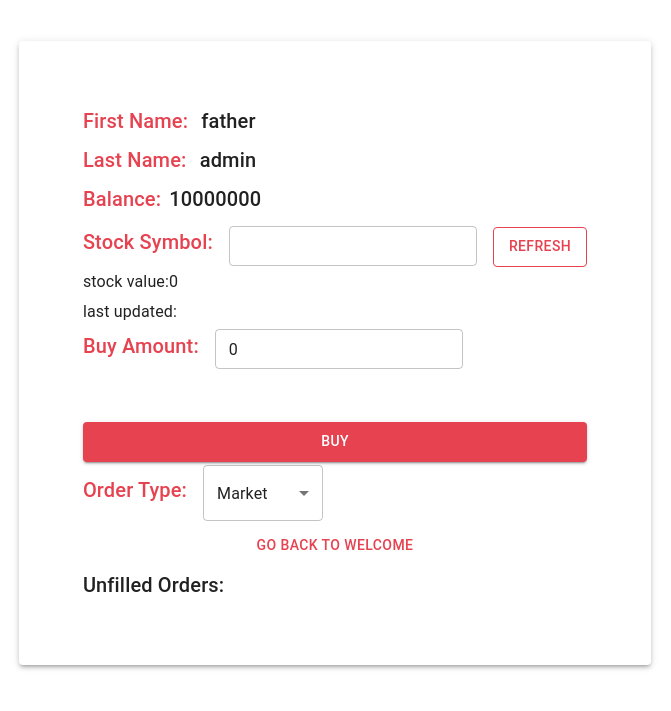
Test: Test Buy component › shows purchase failure when return code not 200
The image size is (671, 711).
Type "AAPL" into the field labelled "Stock Symbol:". click: (353, 246)
box: [229,226,477,266]
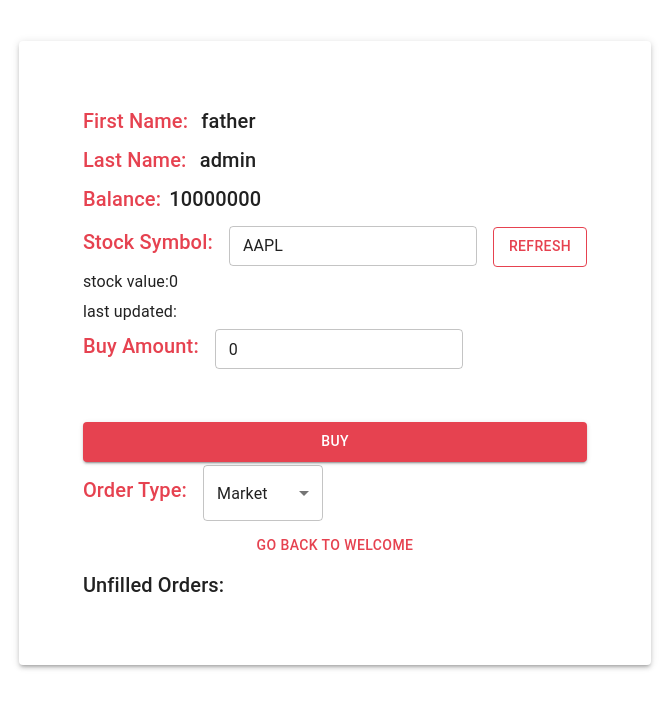
Replace the text in the number field labelled "Buy Amount:" with "10". click: (339, 349)
box: [215,329,463,369]
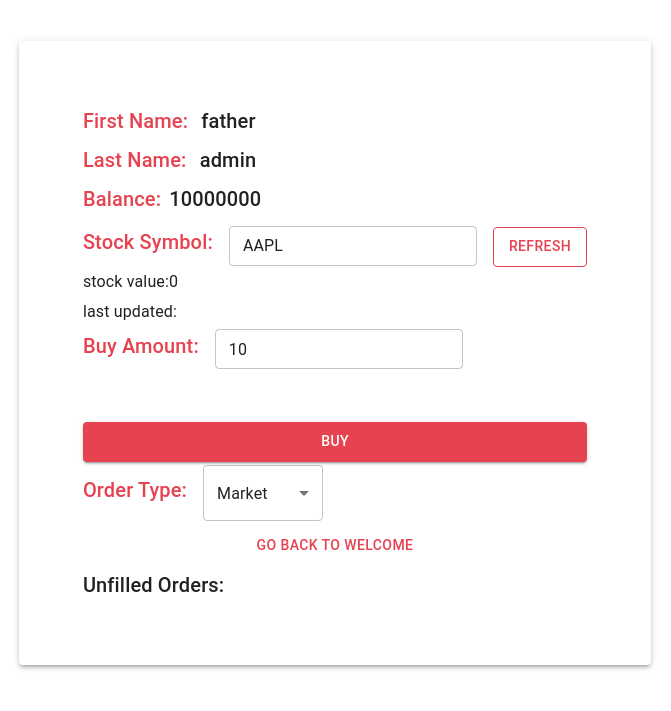
Click the button "Buy". click: (335, 442)
box: [83,422,587,462]
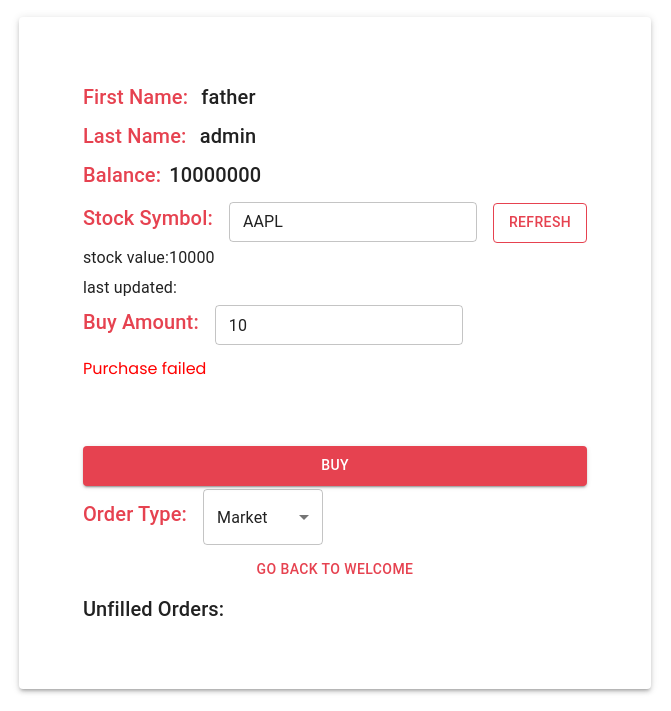
expect the text "Purchase failed" is shown: met, box [83,357,206,380]
